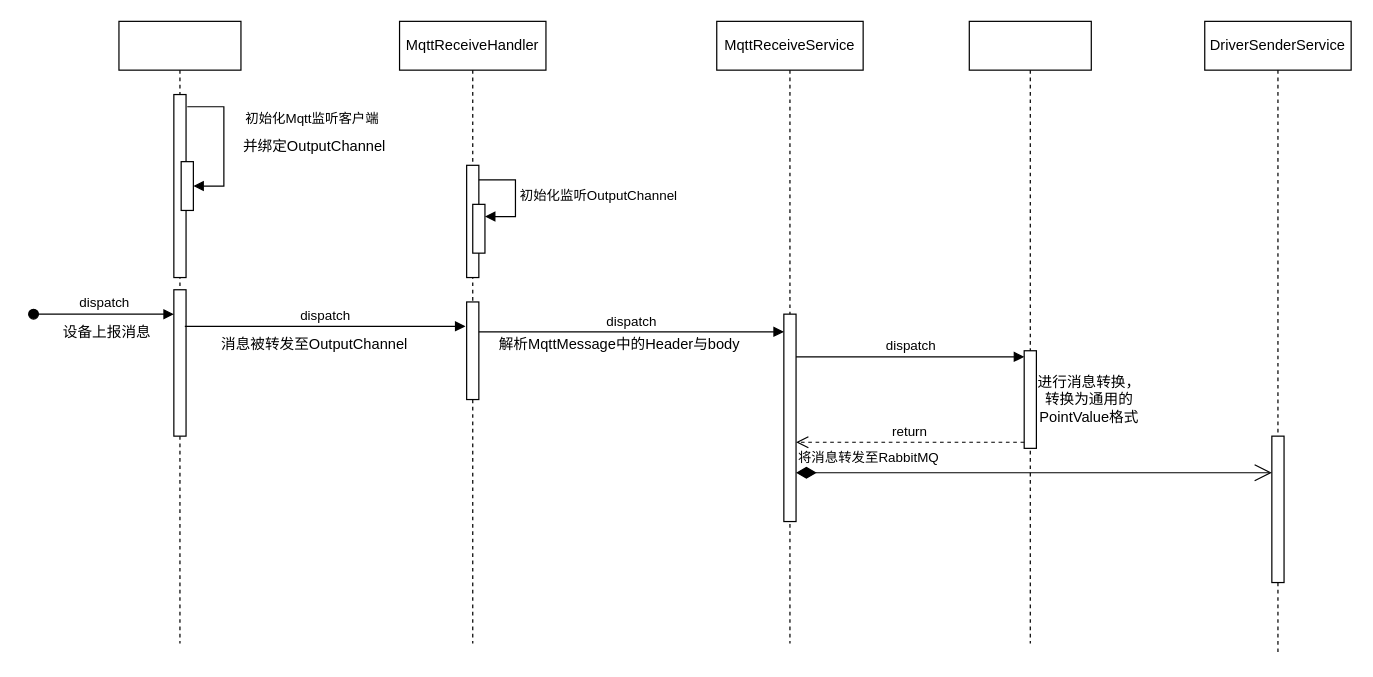
The diagram is 1373 pixels wide and 677 high, and some of its shapes have lost their labels. The shapes that lost their labels are listed below. From the top down, each one's box as (x1, y1, x2, y2) in pixels, then its label:
(118, 20, 241, 644): MqttConfig
(968, 20, 1091, 644): HandlerFactory
